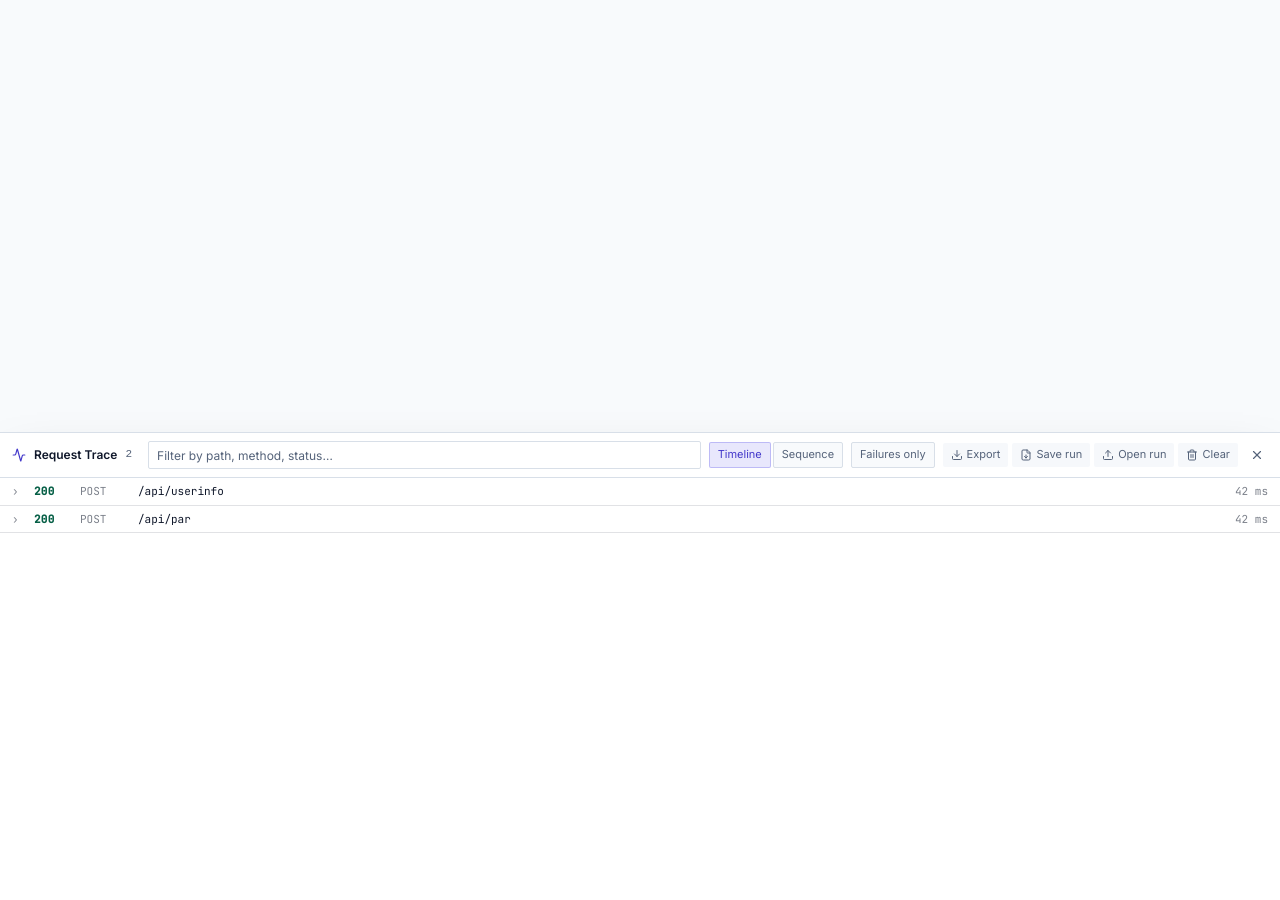
Scenario: TracePanel › filters by free text across path, method and status
Type "userinfo" into the field named "Filter requests" at coordinates (424, 455), box [148,441,701,469]
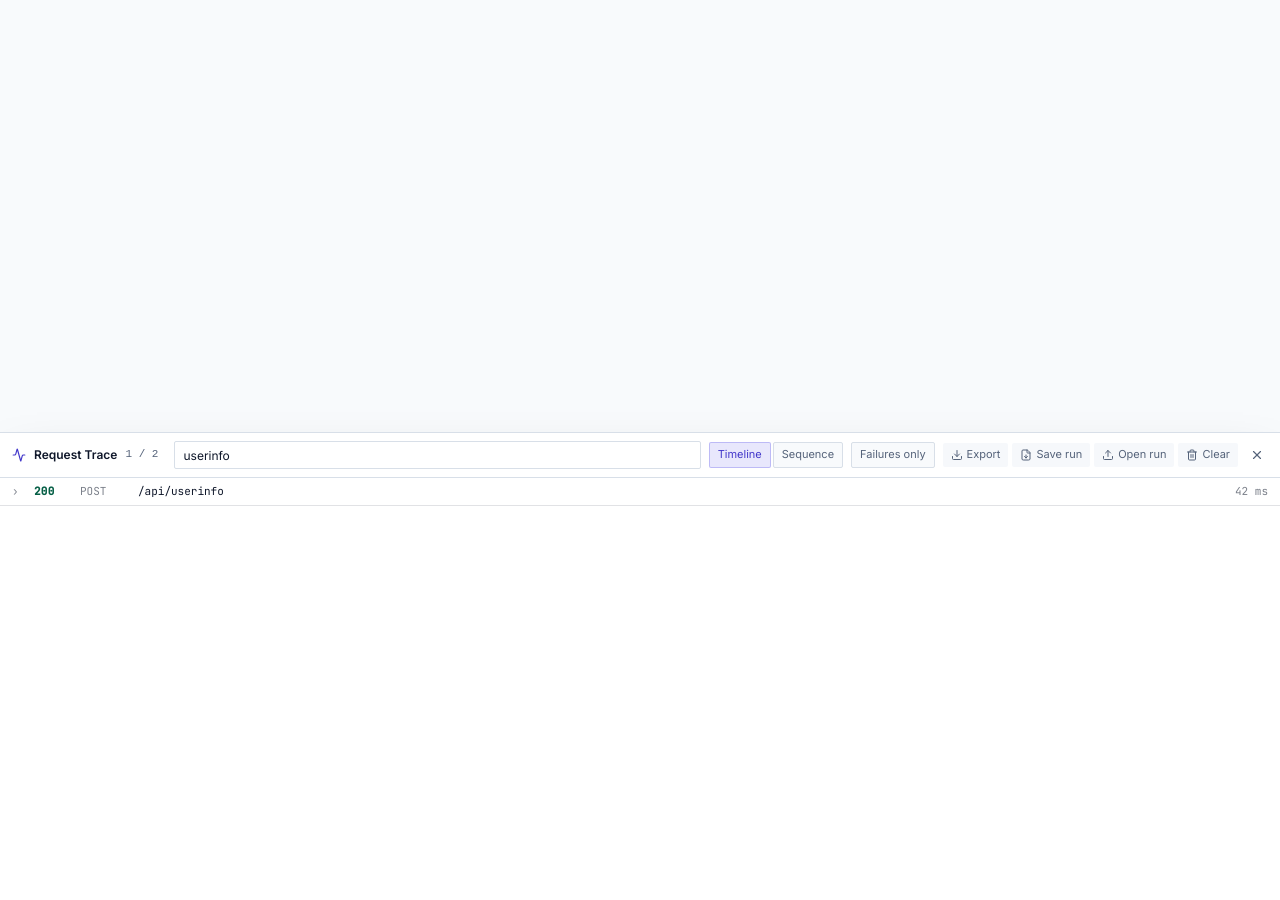
Expected: the text "/api/userinfo" is shown, [138,484,224,498]
Result: the button "/api/par" is gone
